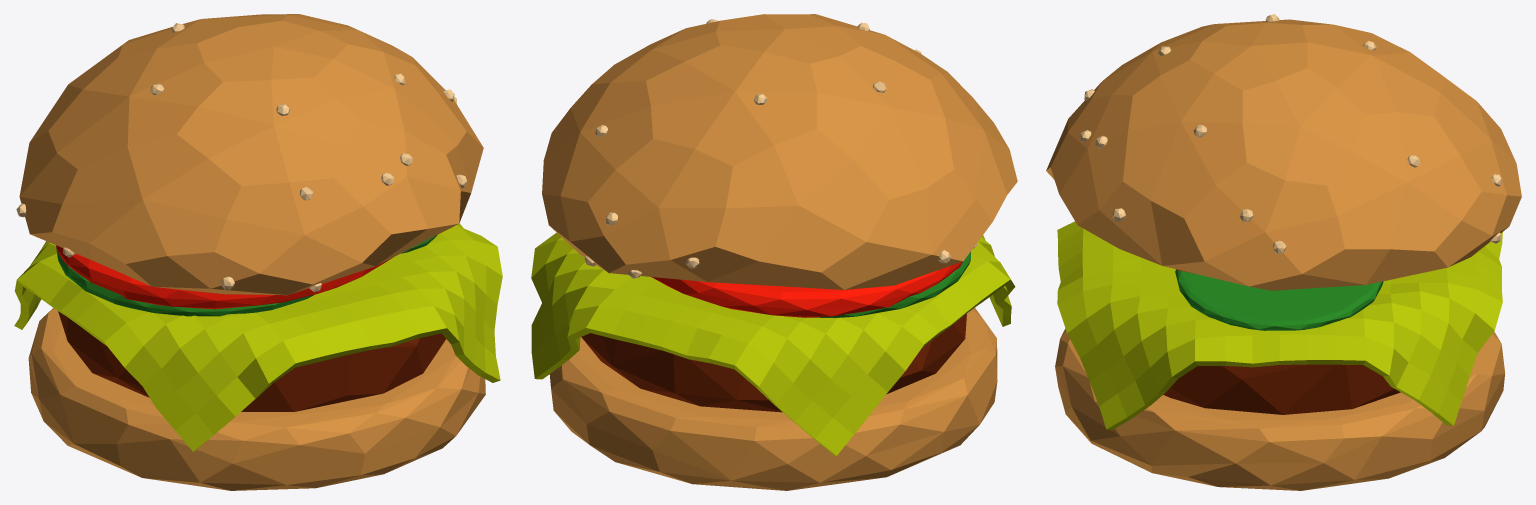
File: burger.fbx
3 renders of one model, left to right at view 1: azimuth 30°, elevation 25°; view 2: azimuth 150°, elevation 25°; view 3: azimuth 270°, elevation 25°, orthographic. The views are drawn at different scales.
Visible parts, largest first — view 1: Top bun, Cheese, Bottom bun, Meat, Tomato, Big Pickle; view 2: Top bun, Cheese, Bottom bun, Meat, Tomato, Big Pickle; view 3: Top bun, Cheese, Bottom bun, Meat, Small pickle.
Part boxes in pixels (x1,y1,x2,y2): Top bun: (19,14,483,295); Cheese: (14,223,502,451); Bottom bun: (28,308,485,490); Meat: (58,311,445,411); Tomato: (56,245,393,309); Big Pickle: (56,248,314,316); Top bun: (542,14,1017,289); Cheese: (531,232,1015,455); Bottom bun: (549,308,997,490); Meat: (581,314,966,412); Tomato: (651,261,962,317); Big Pickle: (813,251,970,318); Top bun: (1046,19,1521,290); Cheese: (1057,221,1502,430); Bottom bun: (1055,328,1505,490); Meat: (1163,364,1400,414); Small pickle: (1175,269,1383,330).
Bounding box in the file's own units: 200 × 167 × 201.
